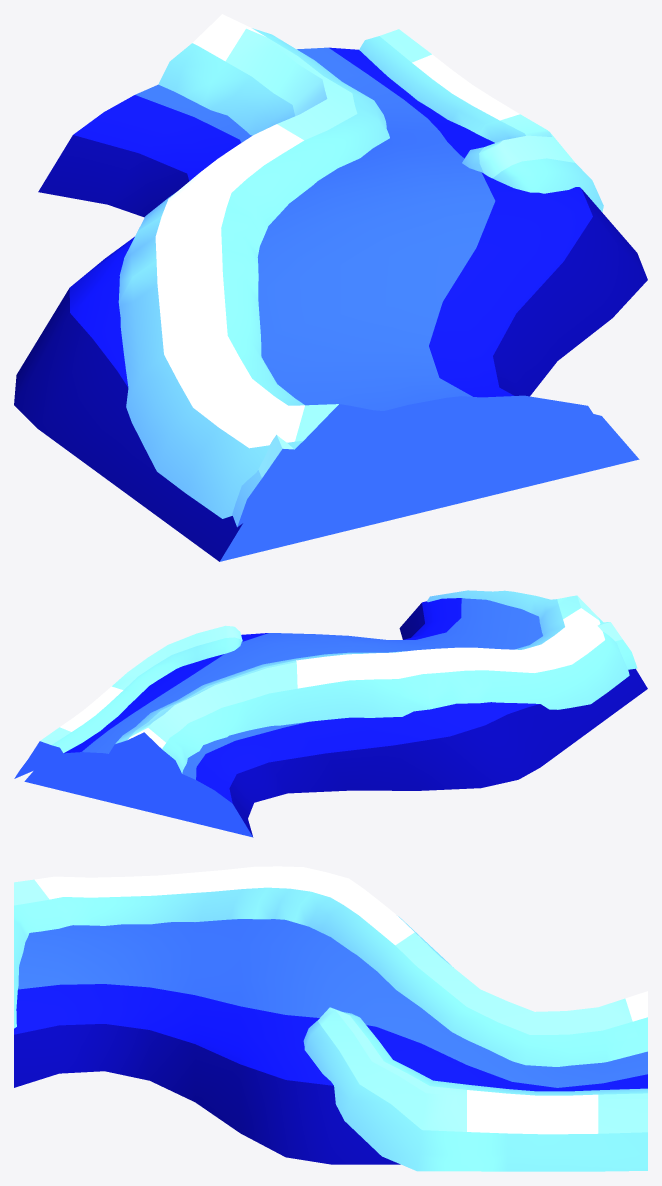
The model's file is shot_lightning_231.glb.
3 views of the same model, one above another, from view 1: azimuth 30°, elevation 25°; view 2: azimuth 150°, elevation 25°; view 3: azimuth 270°, elevation 25° (orthographic). The views are drawn at different scales.
Parts seen in each view (by area): view 1: shot_lightning_231_0, shot_lightning_231_1, shot_lightning_231_2, shot_lightning_231_3; view 2: shot_lightning_231_0, shot_lightning_231_1, shot_lightning_231_2, shot_lightning_231_3; view 3: shot_lightning_231_0, shot_lightning_231_1, shot_lightning_231_2.
Boxes of the visible parts, x1,y1,x2,y2 form: shot_lightning_231_0: (14,47,647,561); shot_lightning_231_1: (118,14,598,518); shot_lightning_231_2: (359,29,603,211); shot_lightning_231_3: (232,434,327,527); shot_lightning_231_0: (24,598,647,837); shot_lightning_231_1: (109,590,629,773); shot_lightning_231_2: (14,625,242,778); shot_lightning_231_3: (597,622,637,669); shot_lightning_231_0: (14,919,647,1164); shot_lightning_231_1: (14,866,647,1066); shot_lightning_231_2: (303,1007,647,1171).
Bounding box in the file's own units: 12.37 × 3.19 × 14.
